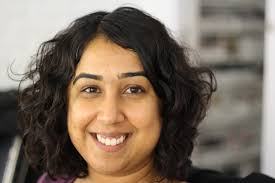indian_female: (37, 1, 206, 172)
